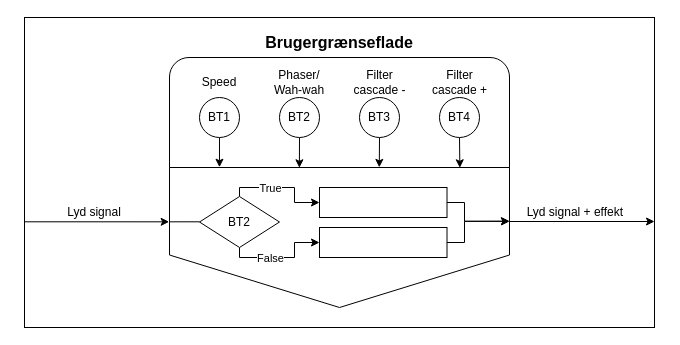
Image size: 680x345. Some labels were removed from this diagram. The shapes that lost their labels are listed below. From the top down, each one's centre as x and y in pixels, then its label:
the point at 382,202: Phaser digital filter
the point at 382,242: Wah-wah digital filter
